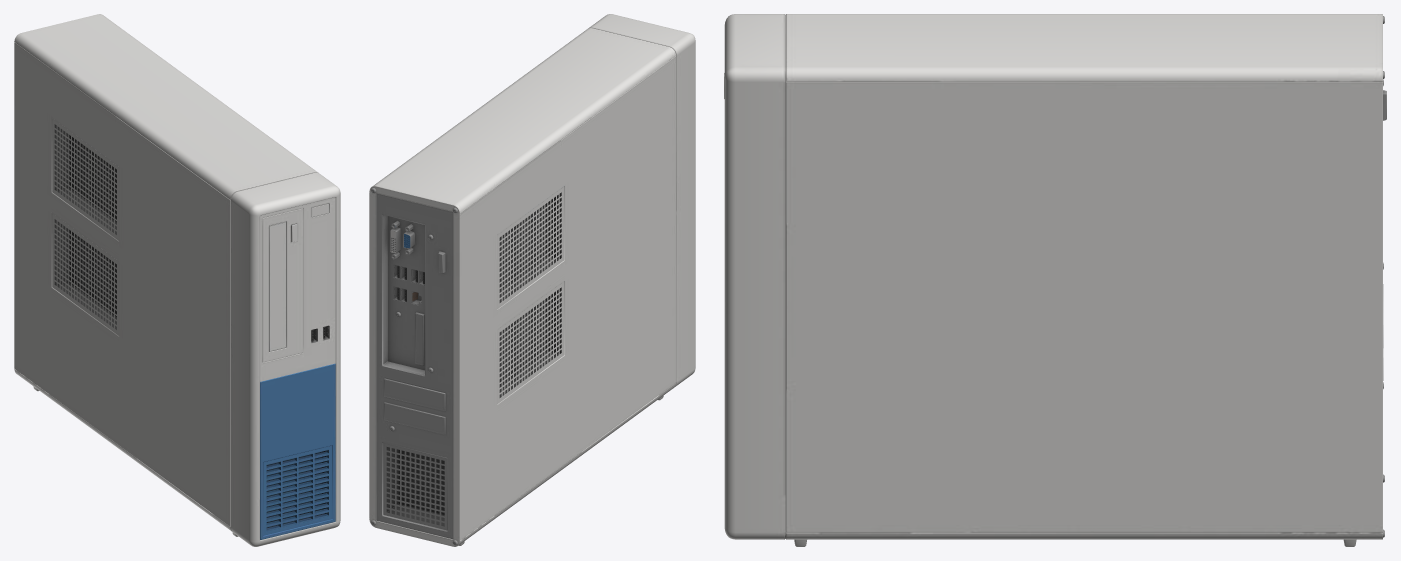
Rendered from DesktopPC.fbx.
3 renders of one model, left to right at view 1: azimuth 30°, elevation 25°; view 2: azimuth 150°, elevation 25°; view 3: azimuth 270°, elevation 25°, orthographic. The views are drawn at different scales.
Visible parts, largest first — view 1: DesktopPC; view 2: DesktopPC; view 3: DesktopPC.
Boxes of the visible parts, x1=… form: DesktopPC: x1=14, y1=14, x2=340, y2=546; DesktopPC: x1=369, y1=14, x2=695, y2=546; DesktopPC: x1=724, y1=14, x2=1386, y2=546.
Bounding box in the file's own units: 10 × 36.8 × 45.85.
Materials: 1 (1 with a texture image).
